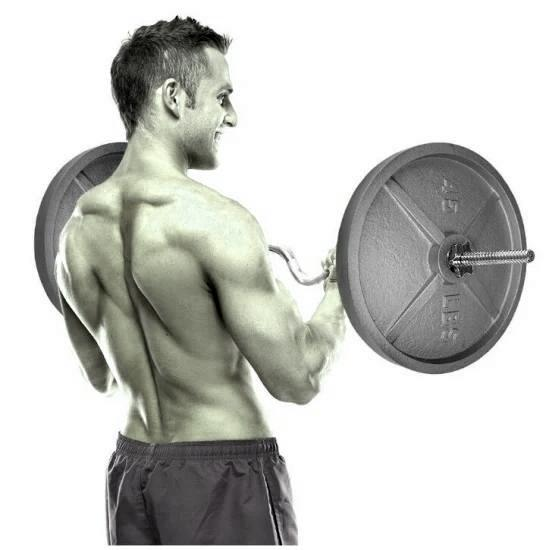Barbell: (518, 247, 540, 272)
